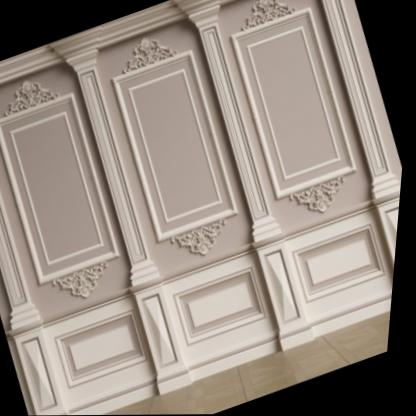Futec frame: (38, 209, 402, 406), (76, 5, 276, 277), (198, 0, 386, 232), (0, 47, 154, 317)
